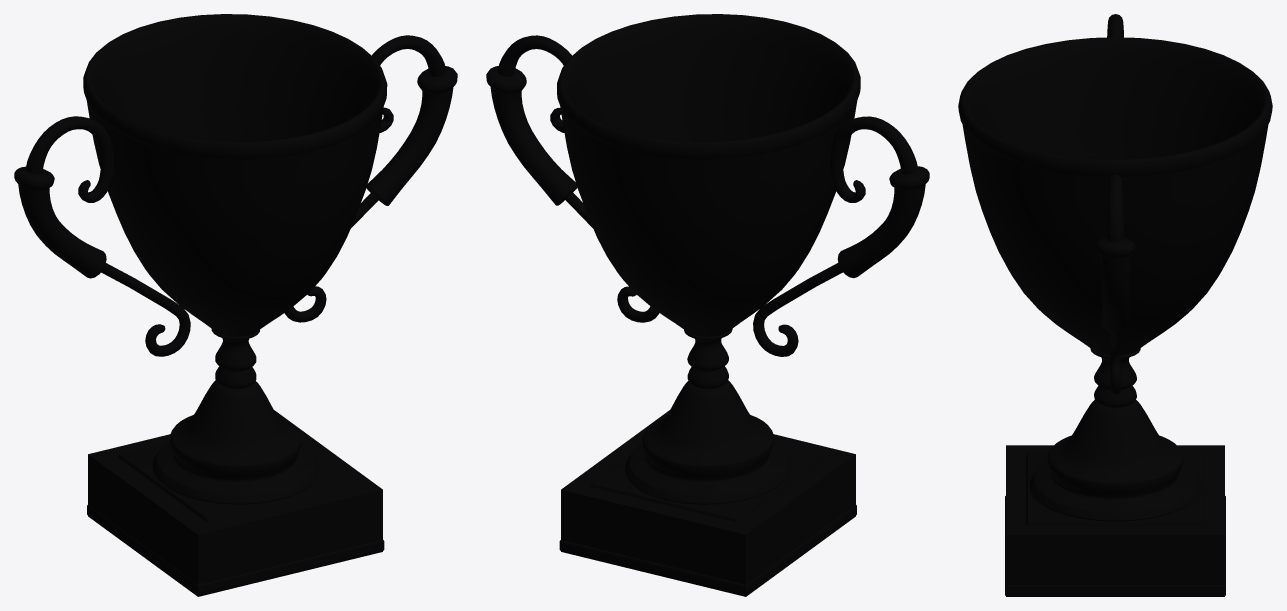
File: trophy.glb
The picture shows the model from 3 angles, left to right: view 1: azimuth 30°, elevation 25°; view 2: azimuth 150°, elevation 25°; view 3: azimuth 270°, elevation 25°; orthographic projection.
Visible parts, largest first — view 1: node_id30, mesh_id33; view 2: node_id30, mesh_id33; view 3: node_id30, mesh_id33.
Boxes of the visible parts, bbox=[...] form: node_id30: bbox=[14, 14, 457, 596]; mesh_id33: bbox=[88, 410, 382, 596]; node_id30: bbox=[486, 14, 929, 596]; mesh_id33: bbox=[561, 410, 855, 596]; node_id30: bbox=[958, 14, 1272, 596]; mesh_id33: bbox=[1006, 445, 1224, 596].
Size of the model in its own units: 0.2607 by 0.2596 by 0.163.
2 materials, 2 textured.
